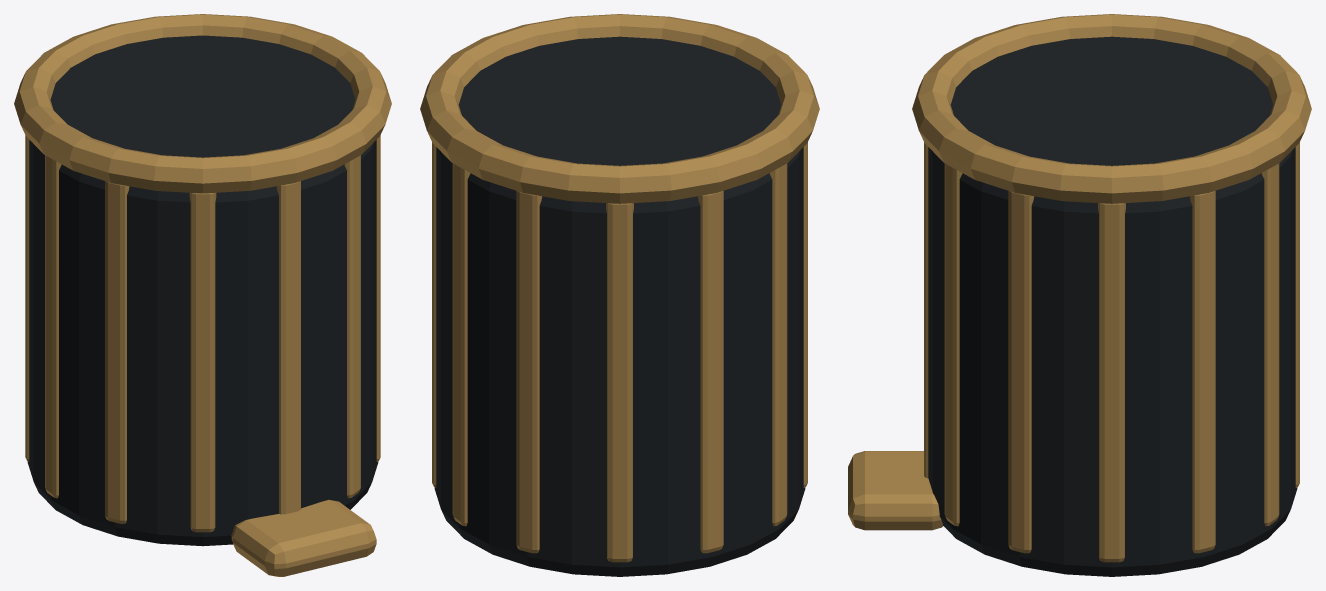
Rendered from bath_wastebasket.glb.
3 views of the same model, side by side, from view 1: azimuth 30°, elevation 25°; view 2: azimuth 150°, elevation 25°; view 3: azimuth 270°, elevation 25° (orthographic). The views are drawn at different scales.
Parts seen in each view (by area): view 1: bath_wastebasket; view 2: bath_wastebasket; view 3: bath_wastebasket.
Part boxes in pixels (x1,y1,x2,y2): bath_wastebasket: (14, 14, 391, 576); bath_wastebasket: (420, 14, 819, 576); bath_wastebasket: (848, 14, 1311, 576).
Size of the model in its own units: 0.356 by 0.4105 by 0.413.
